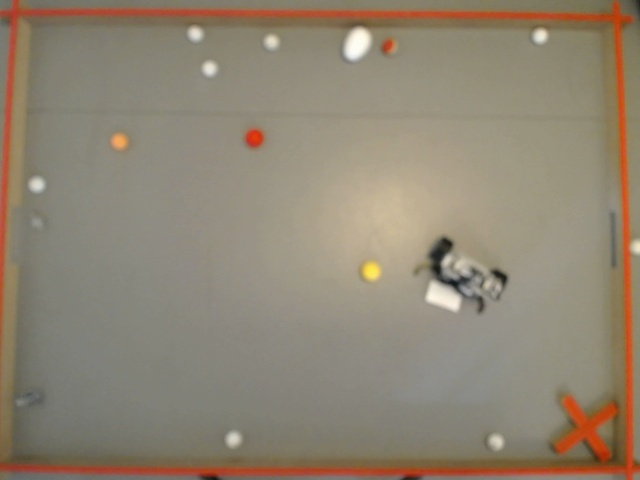big_goal: (2, 204, 20, 264)
cross: (550, 393, 618, 461)
egg: (342, 27, 372, 63)
orange: (113, 132, 128, 150)
robot: (417, 234, 510, 314)
small_goal: (611, 210, 631, 267)
wall: (598, 0, 634, 476), (2, 0, 30, 476), (4, 9, 631, 30), (6, 456, 636, 476)
white: (28, 174, 47, 192), (226, 431, 242, 447), (203, 60, 218, 77), (488, 434, 502, 452), (532, 27, 548, 42), (264, 33, 280, 48), (188, 27, 203, 42), (634, 239, 638, 252)
